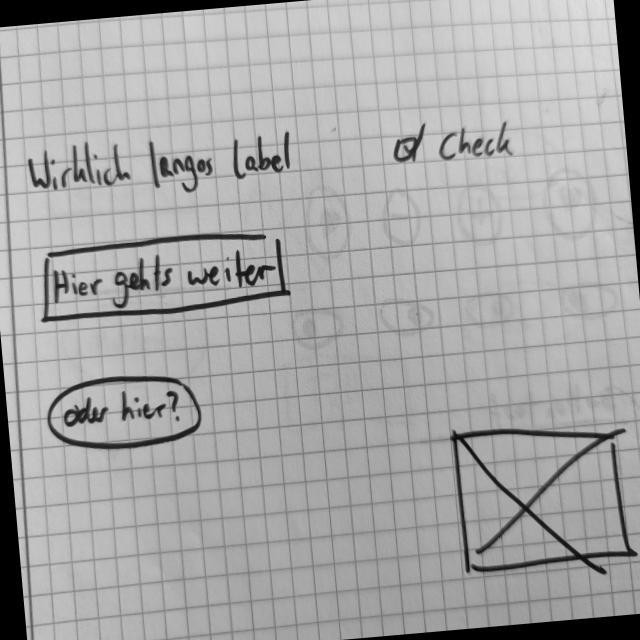button: (34, 224, 296, 328), (43, 368, 207, 458)
checkbox: (391, 113, 516, 171)
image: (448, 412, 640, 582)
label: (23, 121, 298, 210)
